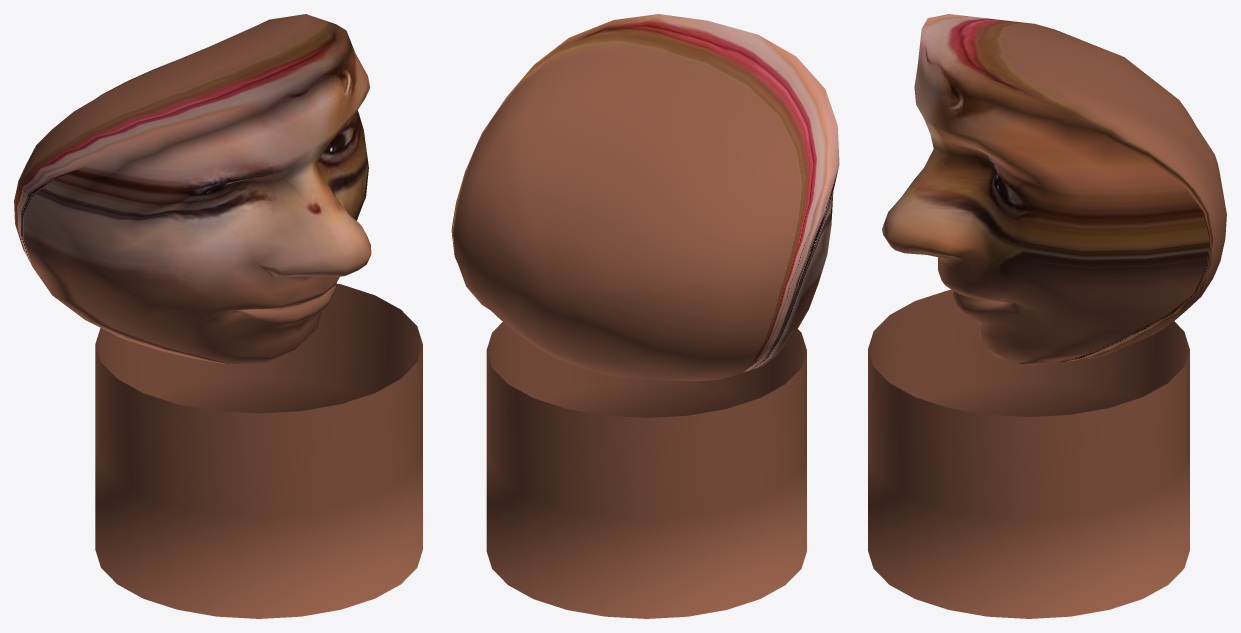
3 views of the same model, side by side, from view 1: azimuth 30°, elevation 25°; view 2: azimuth 150°, elevation 25°; view 3: azimuth 270°, elevation 25° (orthographic). The views are drawn at different scales.
Parts seen in each view (by area): view 1: Face; view 2: Face; view 3: Face.
Part boxes in pixels (x1,y1,x2,y2): Face: (14, 14, 422, 618); Face: (451, 14, 839, 618); Face: (868, 14, 1226, 618).
Size of the model in its own units: 0.1572 by 0.2241 by 0.145.
Materials: 1 (1 with a texture image).
